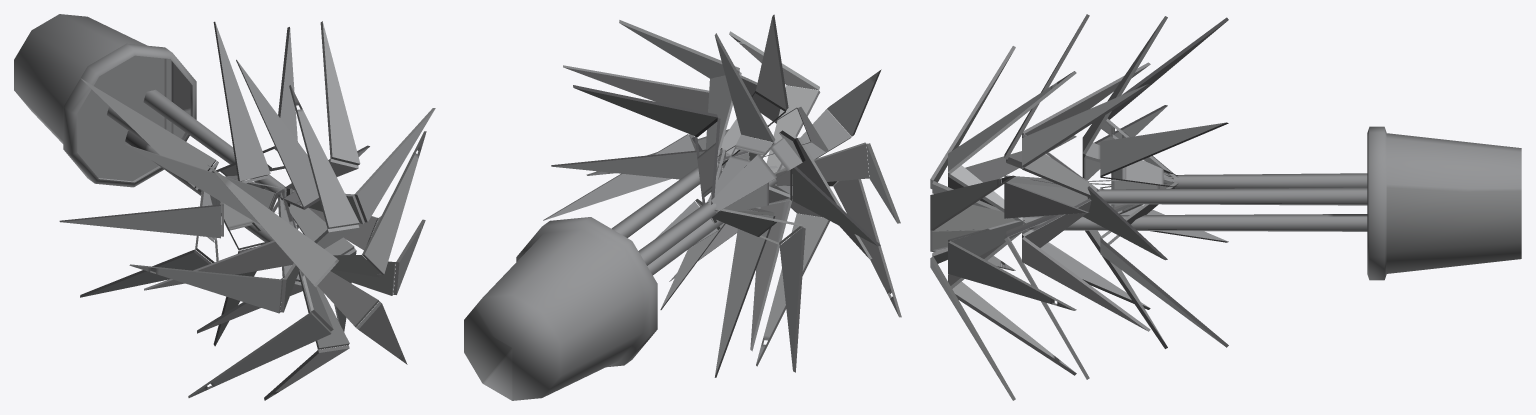
3 views of the same model, side by side, from view 1: azimuth 30°, elevation 25°; view 2: azimuth 150°, elevation 25°; view 3: azimuth 270°, elevation 25° (orthographic). The views are drawn at different scales.
Bounding box in the file's own units: 0.9201 × 0.9065 × 1.36.
